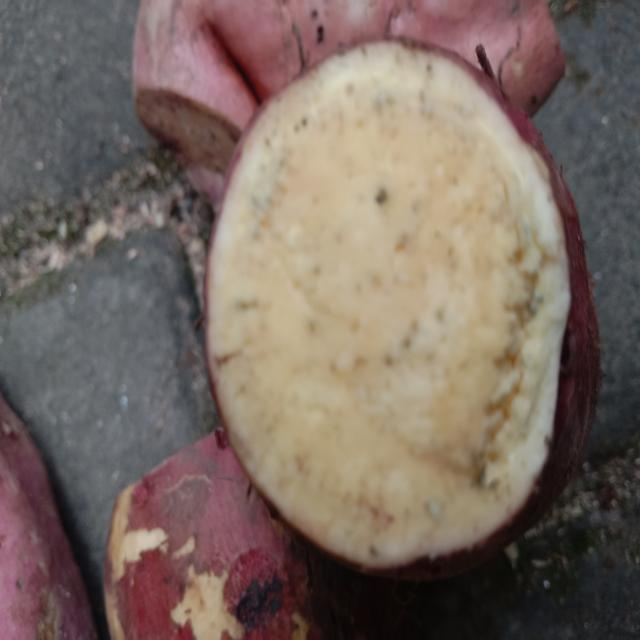Healthy Sweet Potato: (206, 42, 570, 568)
